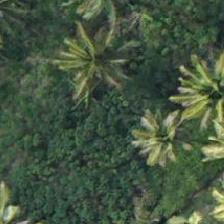coconut_tree: (44, 17, 134, 107), (112, 97, 202, 187), (167, 47, 223, 137)
